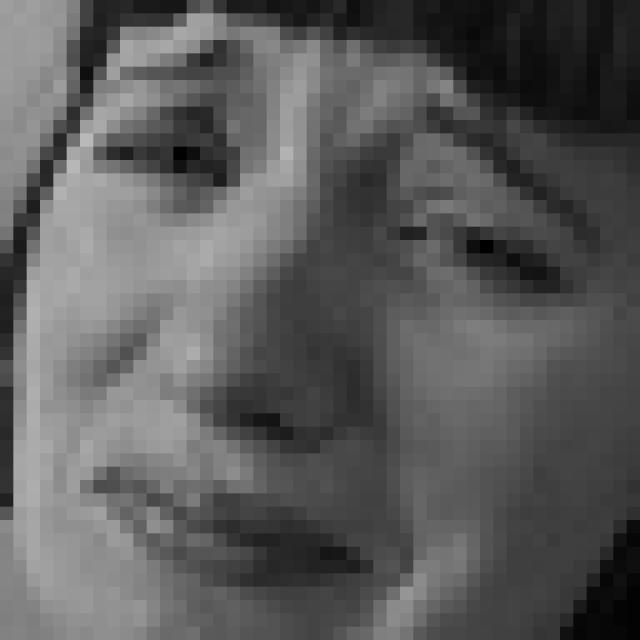sad: (53, 36, 601, 640)
